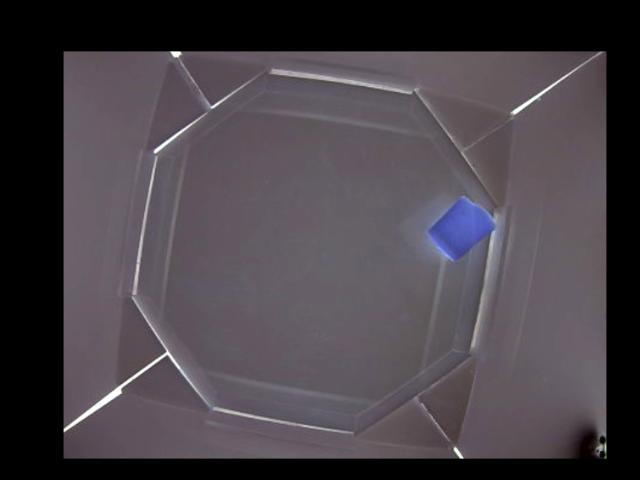Potato: (426, 199, 494, 261)
